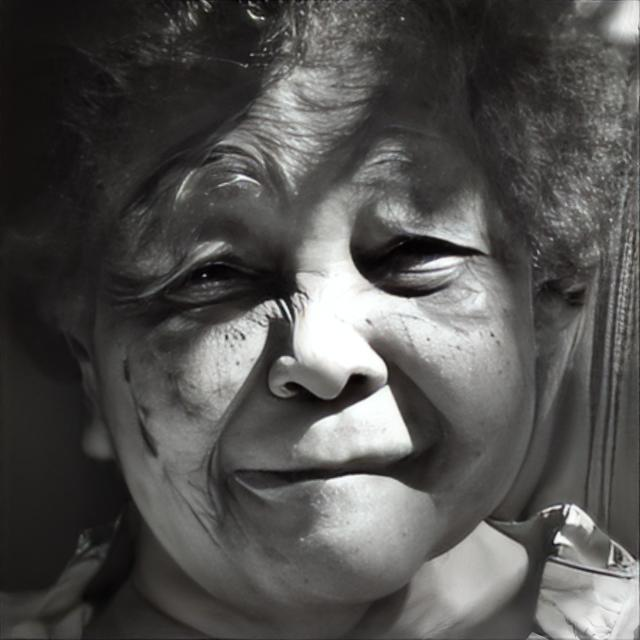sad: (90, 66, 542, 608)
